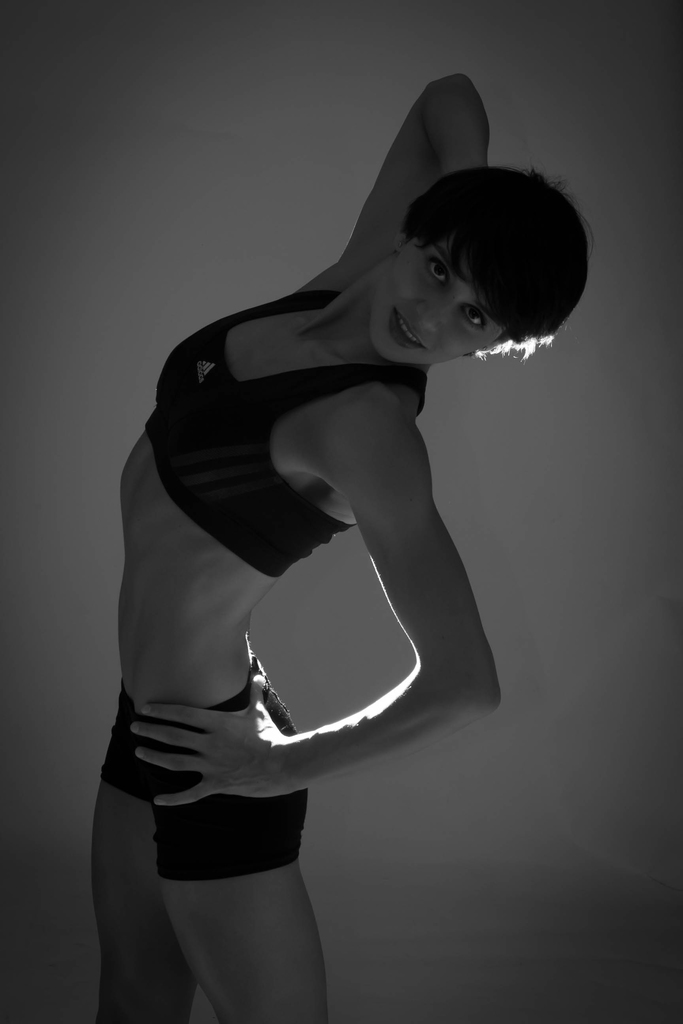Human_hand: (129, 670, 322, 829)
